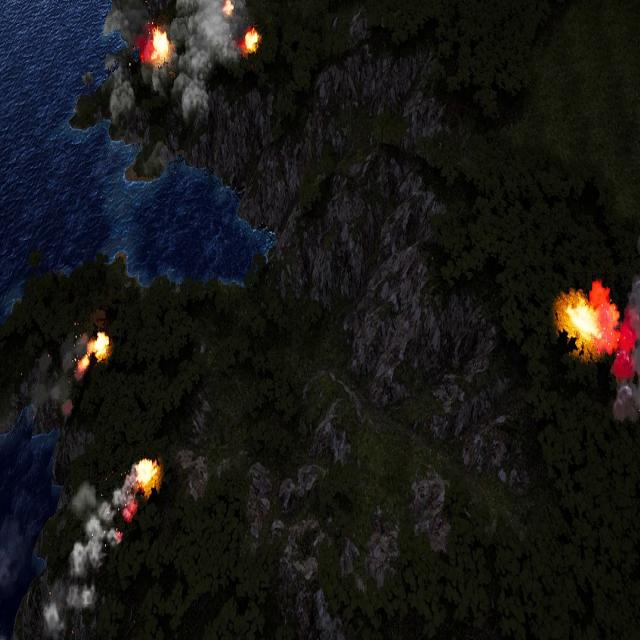fire: (562, 296, 599, 346), (135, 457, 162, 497), (142, 25, 169, 64), (85, 331, 112, 364), (241, 27, 261, 55), (76, 354, 88, 376), (221, 0, 232, 17)
smoke: (3, 344, 133, 640), (42, 474, 139, 638), (170, 1, 243, 126), (588, 267, 640, 437), (103, 0, 151, 123), (29, 328, 86, 423)
